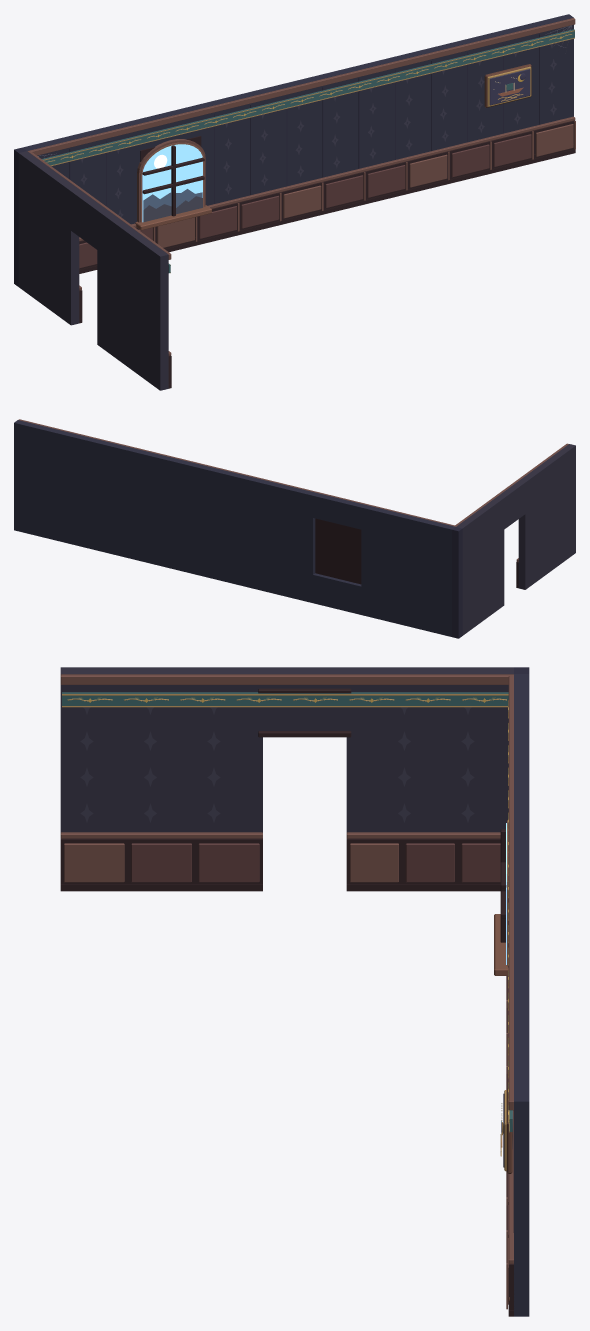
Rendered from room.glb.
The picture shows the model from 3 angles, top to bottom: view 1: azimuth 30°, elevation 25°; view 2: azimuth 150°, elevation 25°; view 3: azimuth 270°, elevation 25°; orthographic projection. The views are drawn at different scales.
Parts seen in each view (by area): view 1: room; view 2: room; view 3: room.
Part boxes in pixels (x1=…): room: x1=14, y1=14, x2=575, y2=390; room: x1=14, y1=419, x2=575, y2=638; room: x1=60, y1=667, x2=529, y2=1316.
Size of the model in its own units: 14.73 by 3.4 by 6.72.
